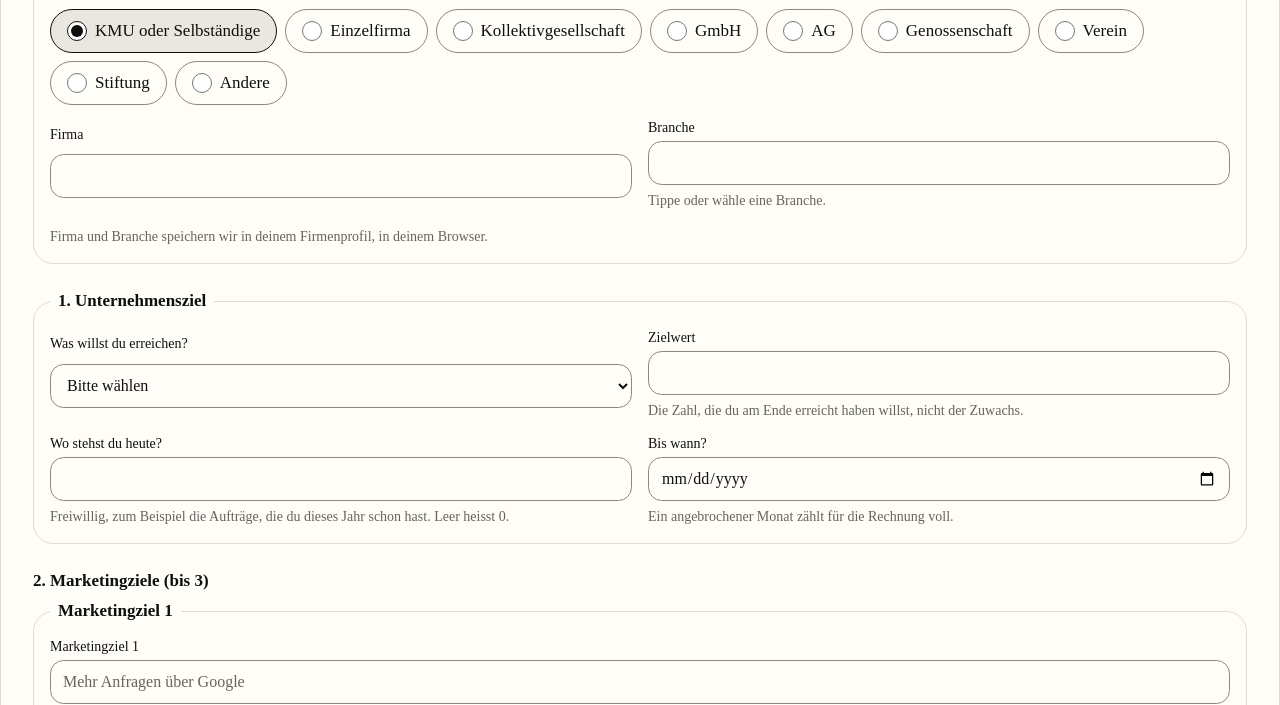
Ziel- und KPI-Baum: Ergebnis › zeigt bei einer Lücke den Hinweis oben und das Ergebnis trotzdem
(page scrolled)
Select "Aufträge" in the dropdown with id "kb-art" at {"x": 341, "y": 386}, box [50, 364, 632, 408]
Type "30" into the number field with id "kb-zielwert" at {"x": 939, "y": 373}, box [648, 351, 1230, 395]
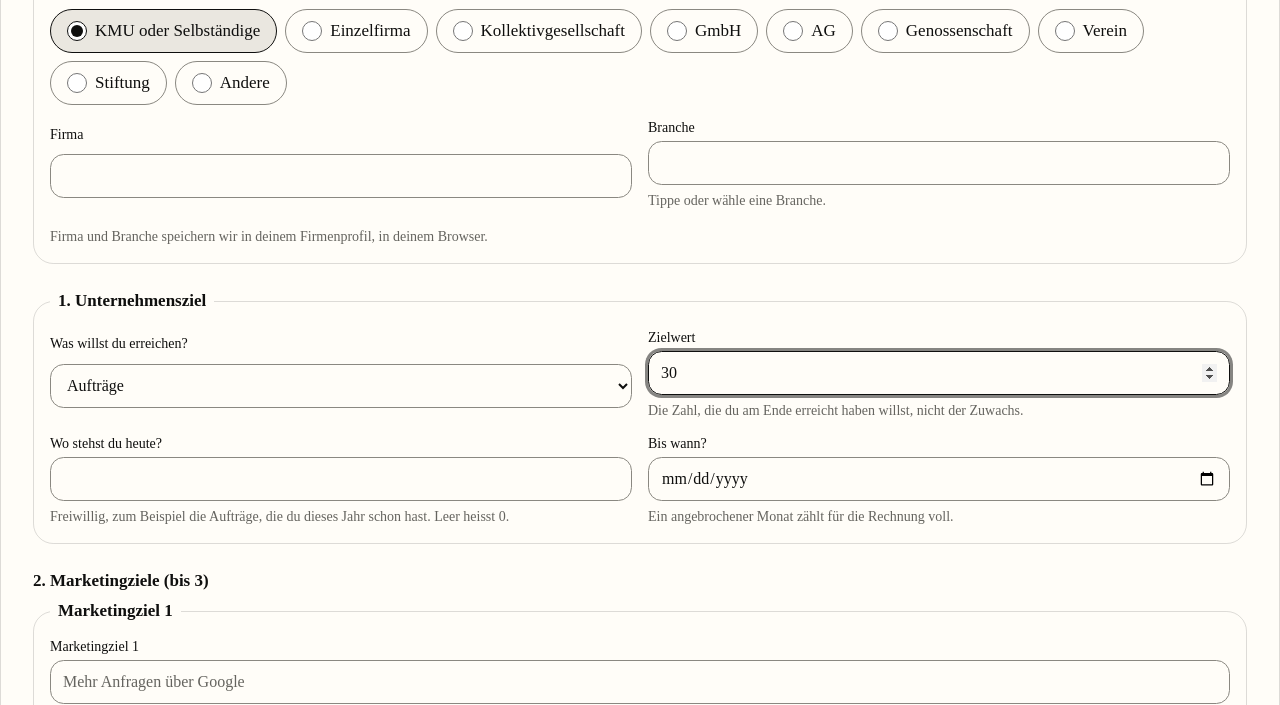
Type "18" into the number field with id "kb-ausgang" at {"x": 341, "y": 479}, box [50, 457, 632, 501]
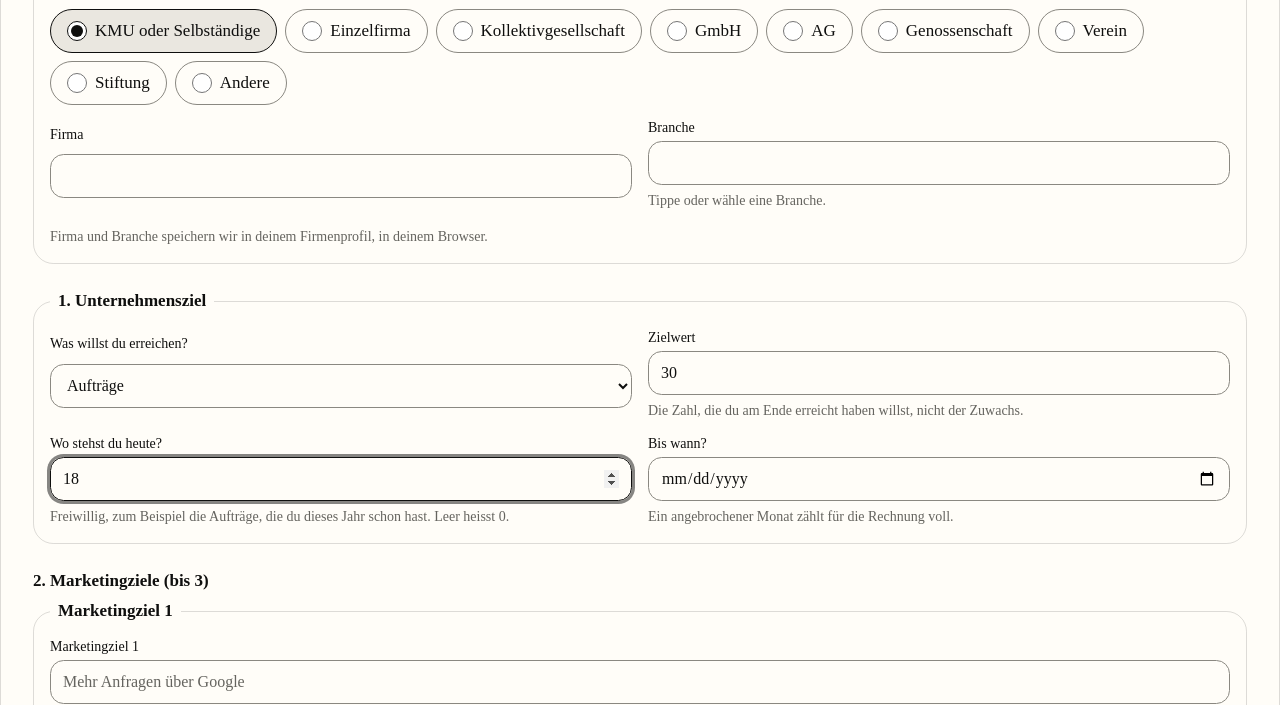
Type "2026-12-31" into the date field with id "kb-ende" at {"x": 939, "y": 479}, box [648, 457, 1230, 501]
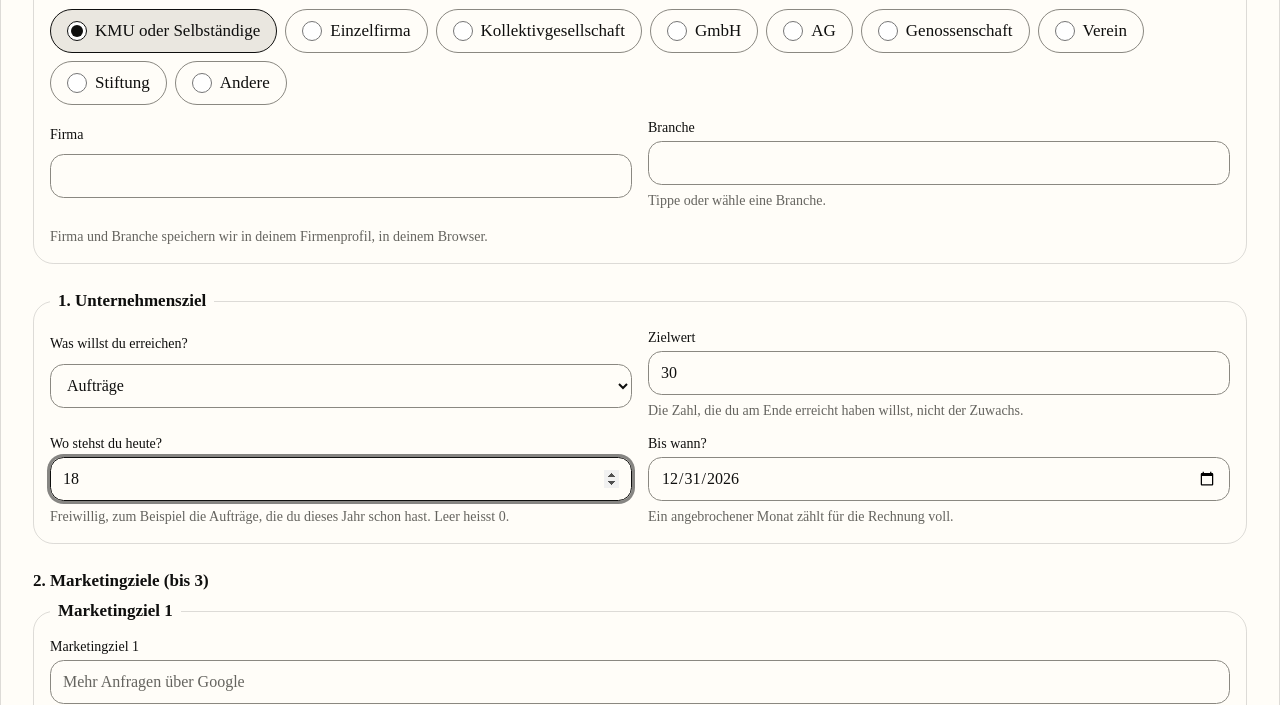
Type "Anfragen" into the field with id "kb-z1-text" at {"x": 640, "y": 682}, box [50, 660, 1230, 704]
(page scrolled)
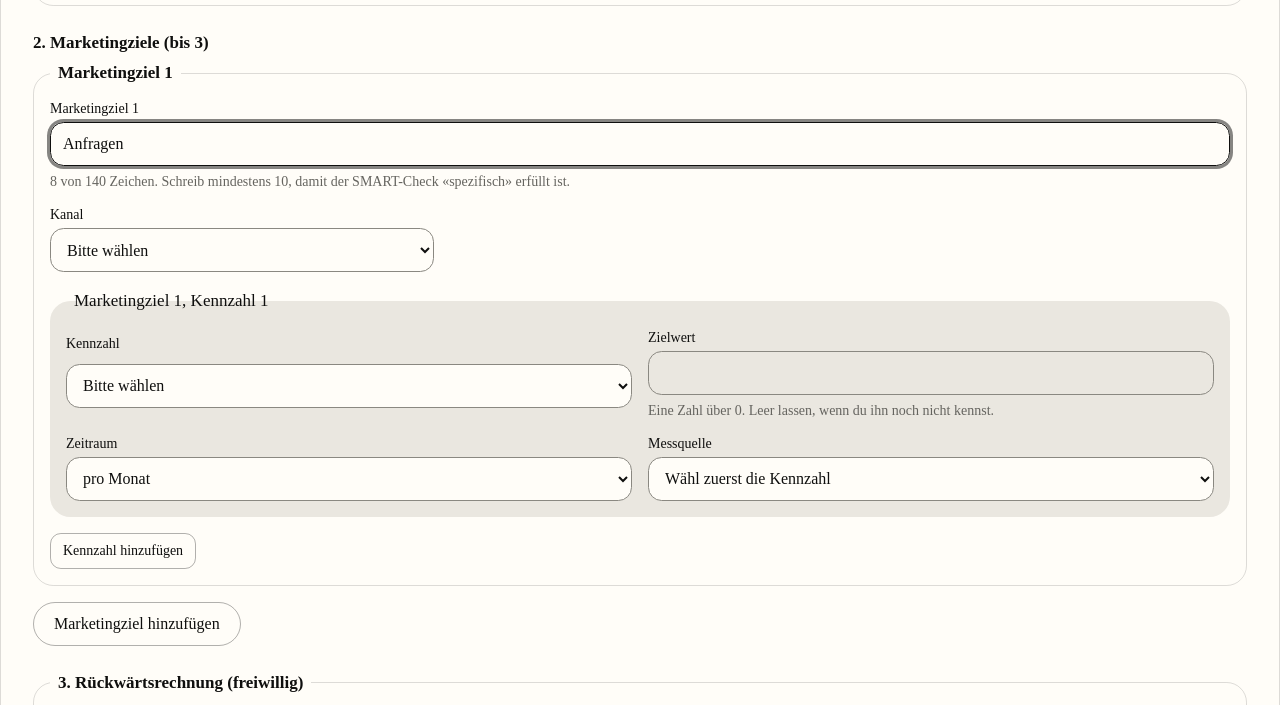
Select "Anfragen" in the dropdown with id "kb-z1-k1-kpi" at {"x": 349, "y": 386}, box [66, 364, 632, 408]
(page scrolled)
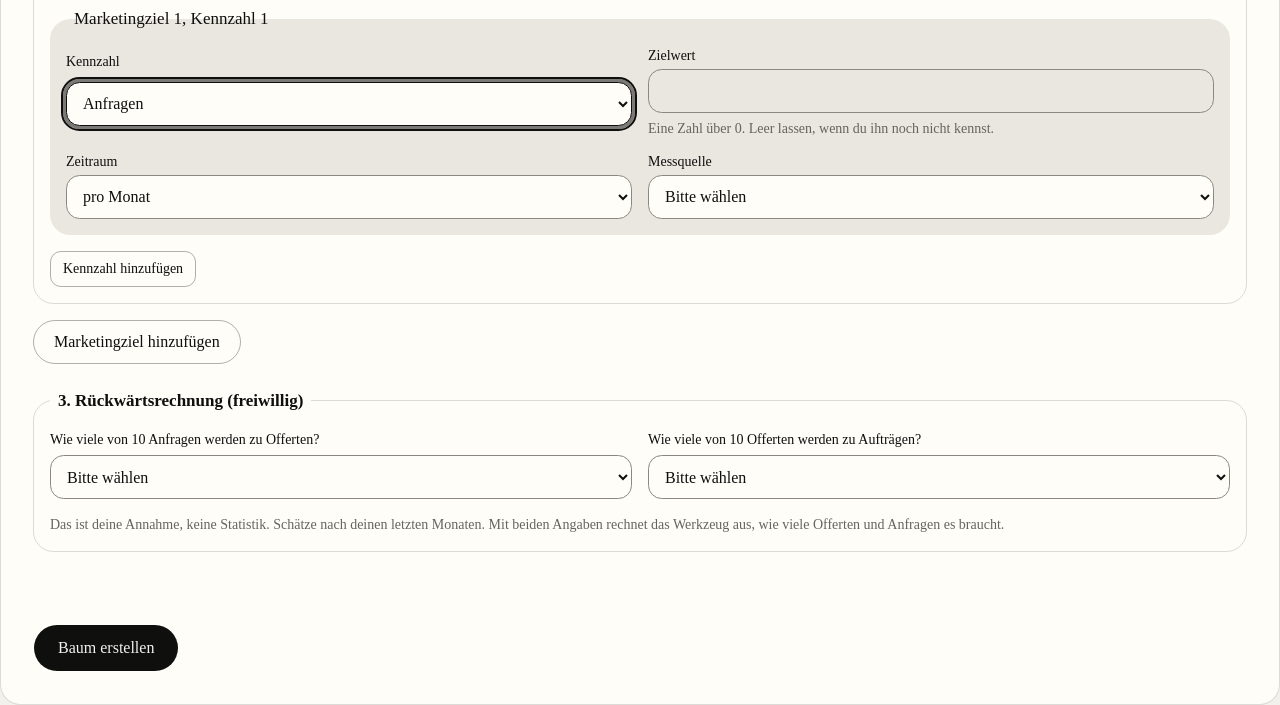
Click the button "Baum erstellen" at {"x": 106, "y": 648}, box [33, 624, 179, 672]
(page scrolled)
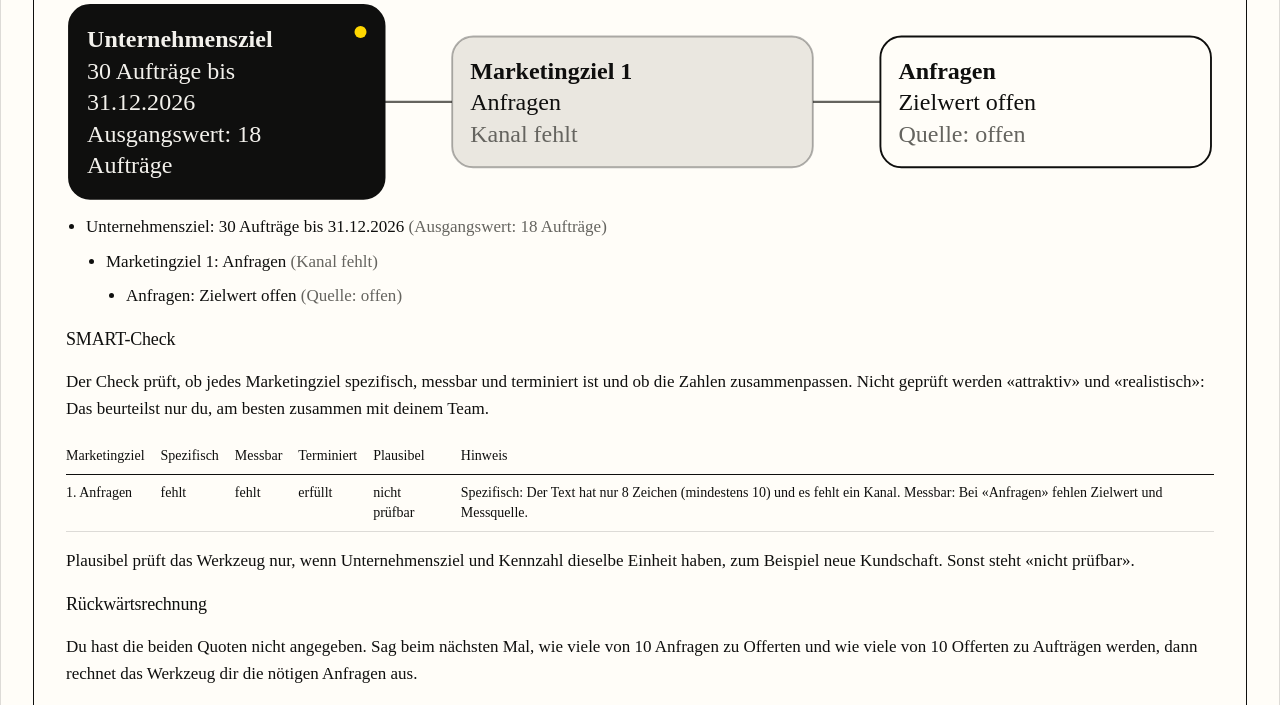
Now the row that starts with "1. Anfragen" is shown, box [66, 485, 132, 500]
Now the row that starts with "1. Anfragen" shows "fehlt", box [160, 485, 186, 500]
Now the row that starts with "1. Anfragen" shows "Der Text hat nur 8 Zeichen (mindestens 10) und es fehlt ein Kanal.", box [461, 485, 1162, 520]
